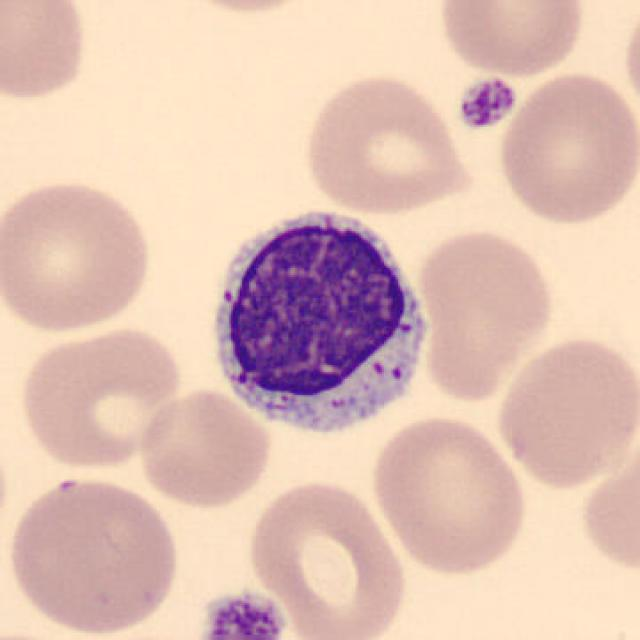Lymphocyte: (194, 197, 441, 448)
Platelets: (196, 587, 288, 640), (453, 74, 519, 132)
RBC: (2, 473, 183, 638), (244, 476, 411, 640), (368, 413, 532, 578), (298, 68, 476, 218), (411, 224, 558, 402), (14, 322, 187, 472), (0, 173, 158, 337), (491, 331, 636, 492), (494, 69, 638, 227), (135, 384, 276, 510), (434, 0, 590, 81), (0, 0, 92, 106), (576, 441, 638, 580), (158, 0, 329, 16), (620, 0, 640, 127)
